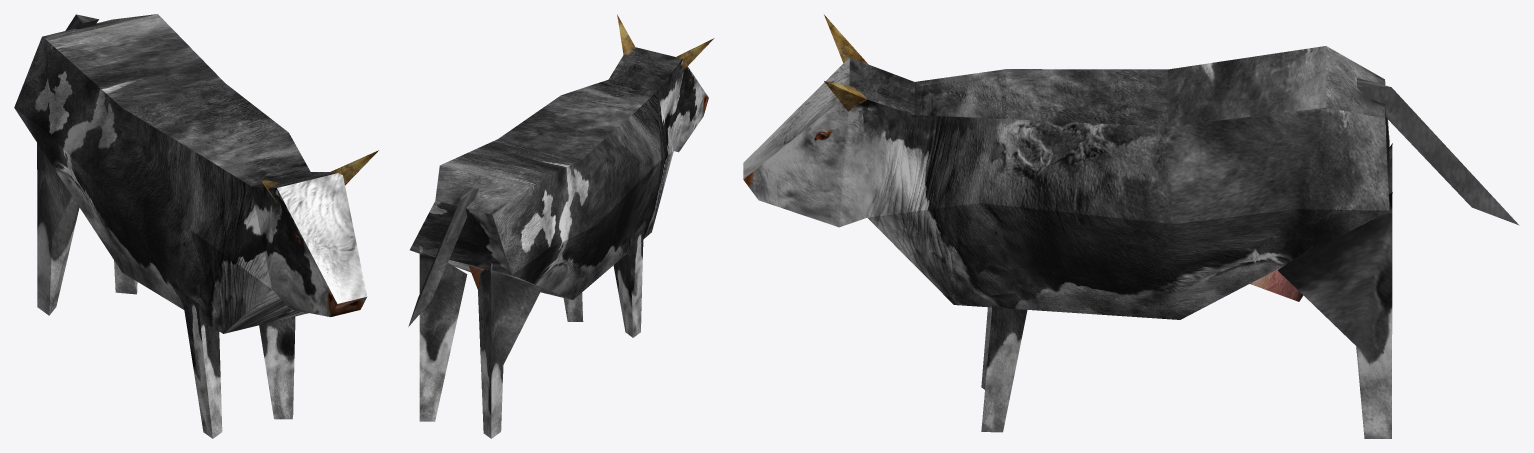
File: cow-stand-black-cbj_LOD03.gltf
The picture shows the model from 3 angles, left to right: view 1: azimuth 30°, elevation 25°; view 2: azimuth 150°, elevation 25°; view 3: azimuth 270°, elevation 25°; orthographic projection. The views are drawn at different scales.
Visible parts, largest first — view 1: Line01.006; view 2: Line01.006; view 3: Line01.006.
Boxes of the visible parts, bbox=[...] form: Line01.006: bbox=[14, 14, 378, 438]; Line01.006: bbox=[408, 14, 714, 438]; Line01.006: bbox=[743, 14, 1519, 438].
Bounding box in the file's own units: 0.8503 × 1.78 × 3.47.
